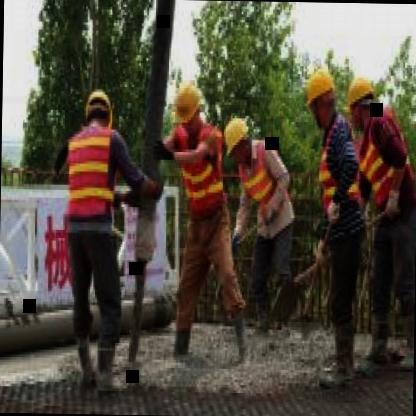helmet: (304, 63, 338, 128), (344, 74, 376, 131), (221, 117, 253, 174), (171, 80, 207, 130), (84, 86, 113, 134)
